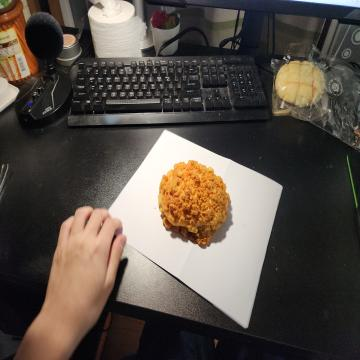soboru_bread: (158, 161, 230, 252)
